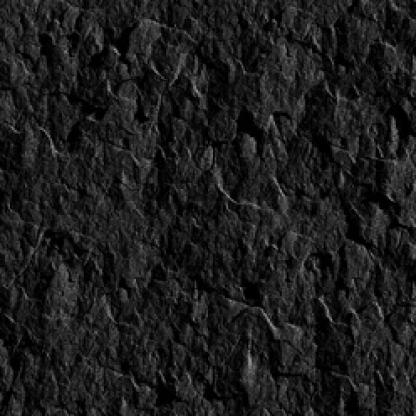Sedimentary_coal: (1, 0, 416, 415)
